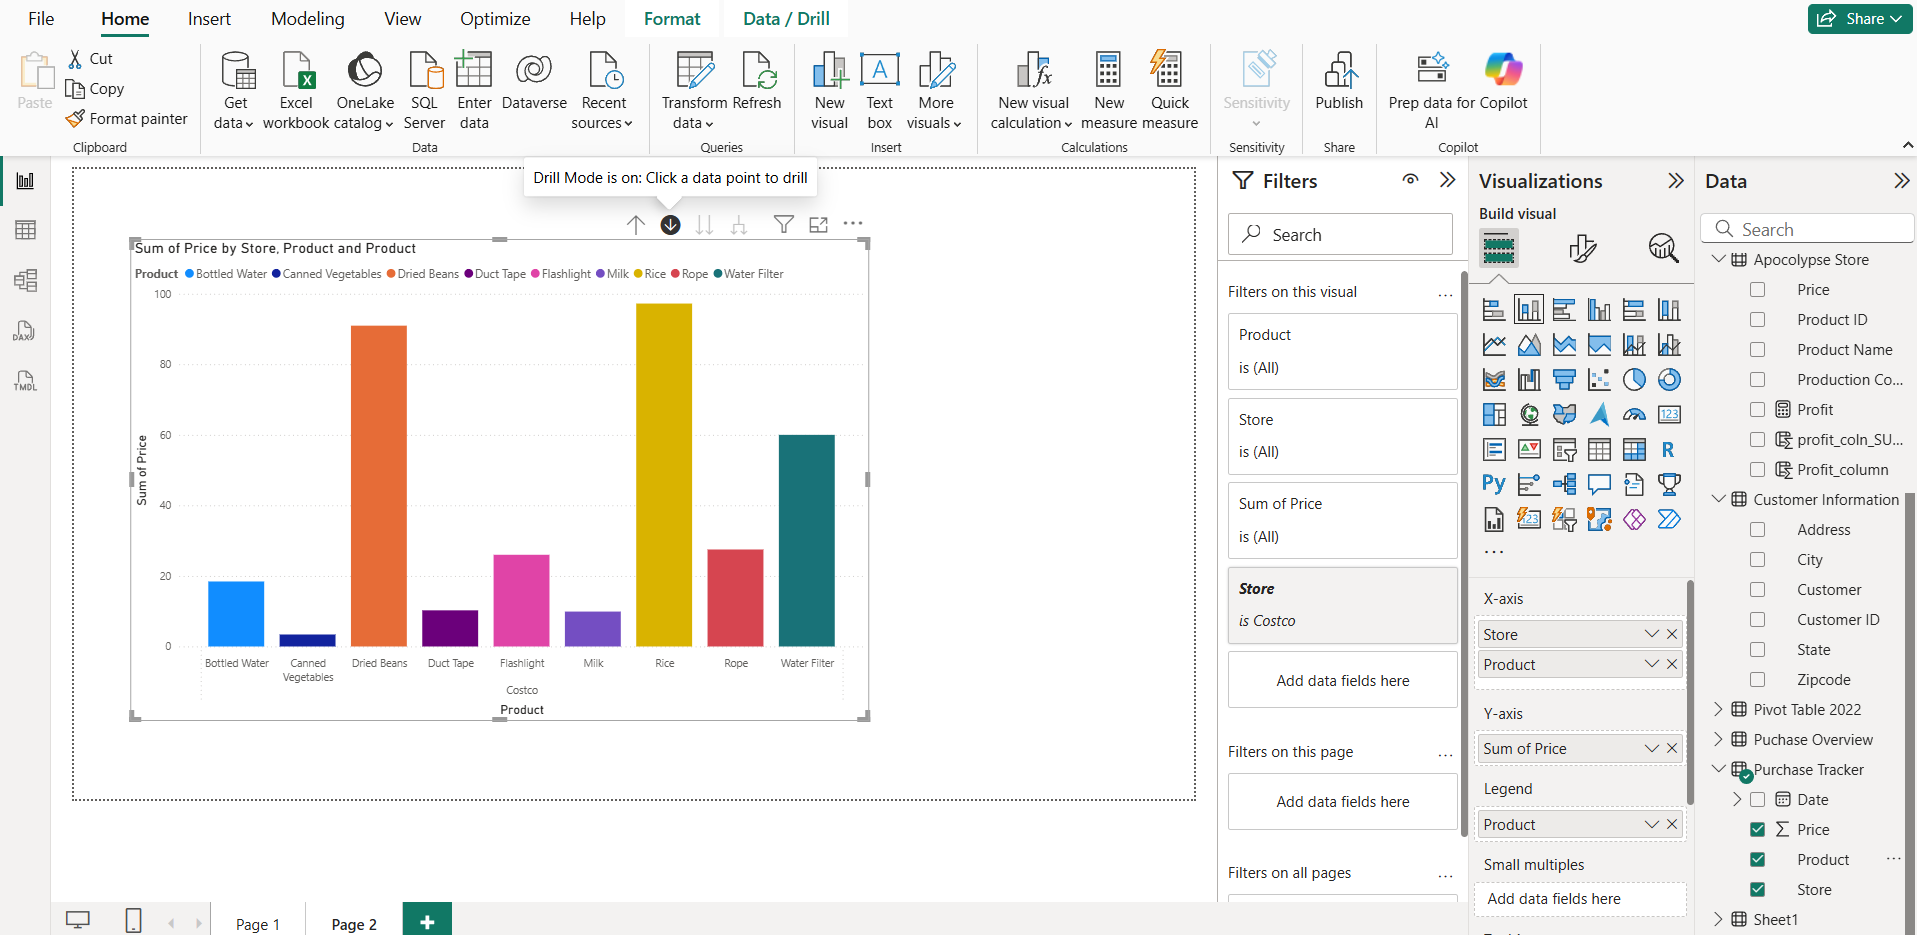

Layout of this report page (visuals, bound fields, positions):
{"tool":"powerbi","page":{"name":"Page 2","canvas":[1280,720],"ordinal":1},"visuals":[{"type":"columnChart","fields":{"Y":["Sum(Purchase Tracker.Price)"],"Category":["Purchase Tracker.Store","Purchase Tracker.Product"],"Series":["Purchase Tracker.Store"]},"box":[0,0,585.7,328.6],"z":0},{"type":"barChart","fields":{"Category":["Apocolypse Sales.Customer","Apocolypse Sales.Order ID"],"Y":["Sum(Apocolypse Sales.Units Sold)"],"Series":["Apocolypse Sales.Customer"]},"box":[565.7,12.9,701.4,291.4],"z":1},{"type":"clusteredColumnChart","fields":{"Y":["CountNonNull(Customer Buyer Information.Buyer ID)"],"Category":["Customer Buyer Information.Age (bins)","Customer Buyer Information.Age"]},"box":[0,338.6,535.7,330],"z":2},{"type":"tableEx","fields":{"Values":["Apocolypse Sales.Customer (List)","Sum(Apocolypse Sales.Units Sold)"]},"box":[585.7,305.7,315.7,110],"z":3},{"type":"tableEx","fields":{"Values":["Apocolypse Store.Product Name","Apocolypse Store.Price","Sum(Apocolypse Sales.Units Sold)"]},"box":[881.4,412.9,398.6,307.1],"z":4}]}

Visuals, with their boxes on the page's 1280x720 design canvas (x1, y1, x2, y2). These are canvas units, not pixel positions in the 1917x935 screenshot, which may show the page scaled, cropped or inside an application window:
columnChart - Sum(Purchase Tracker.Price) x Purchase Tracker.Store: bbox=(0, 0, 586, 329)
barChart - Apocolypse Sales.Customer x Apocolypse Sales.Order ID: bbox=(566, 13, 1267, 304)
clusteredColumnChart - CountNonNull(Customer Buyer Information.Buyer ID) x Customer Buyer Information.Age (bins): bbox=(0, 339, 536, 669)
tableEx - Apocolypse Sales.Customer (List) x Sum(Apocolypse Sales.Units Sold): bbox=(586, 306, 901, 416)
tableEx - Apocolypse Store.Product Name x Apocolypse Store.Price: bbox=(881, 413, 1280, 720)
